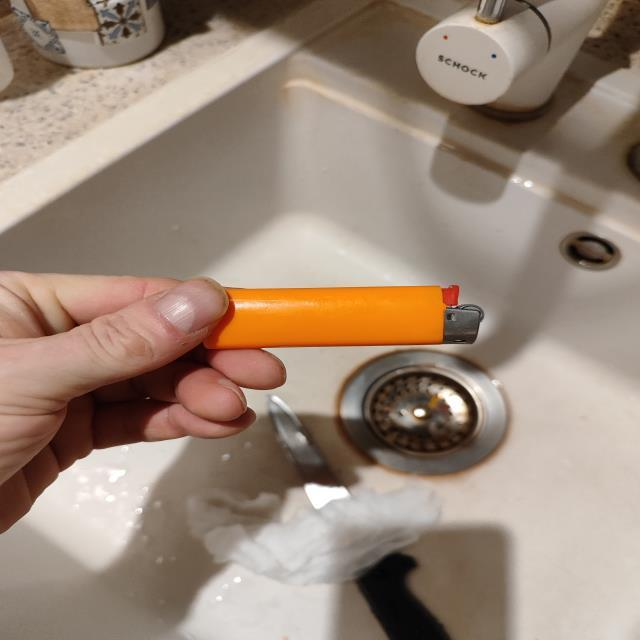lighter: (205, 285, 482, 349)
